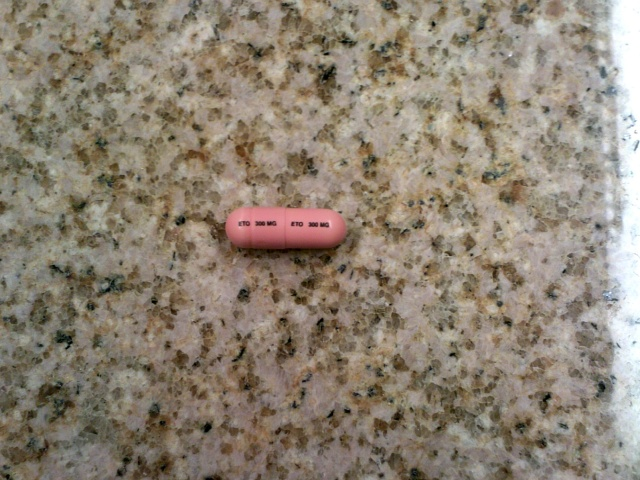capsule: (224, 206, 348, 257)
